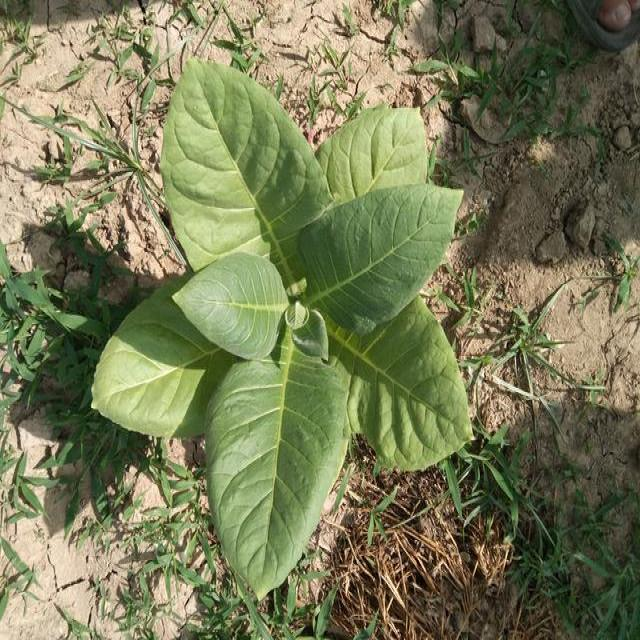crop: (90, 50, 476, 602)
